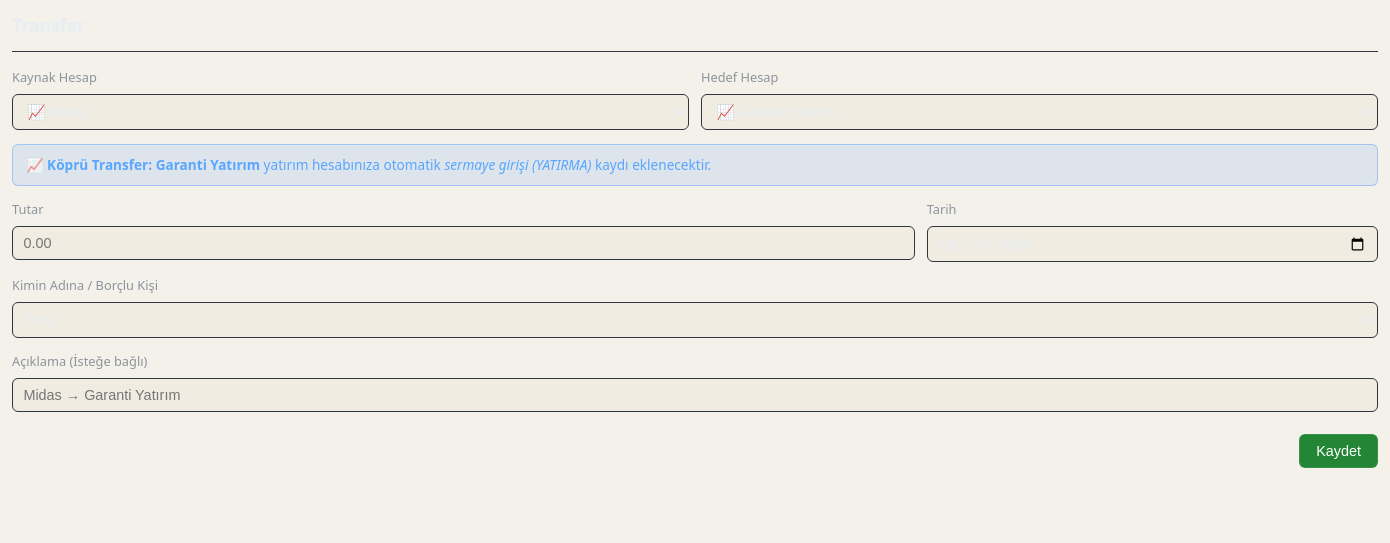
Test: TransferFormu › iki aracı kurum seçildiğinde uyarır ve kaydetmez
This screenshot has width=1390, height=543.
In the number field with id "t-tutar": (463, 243) [12,226,915,260], type "5000"
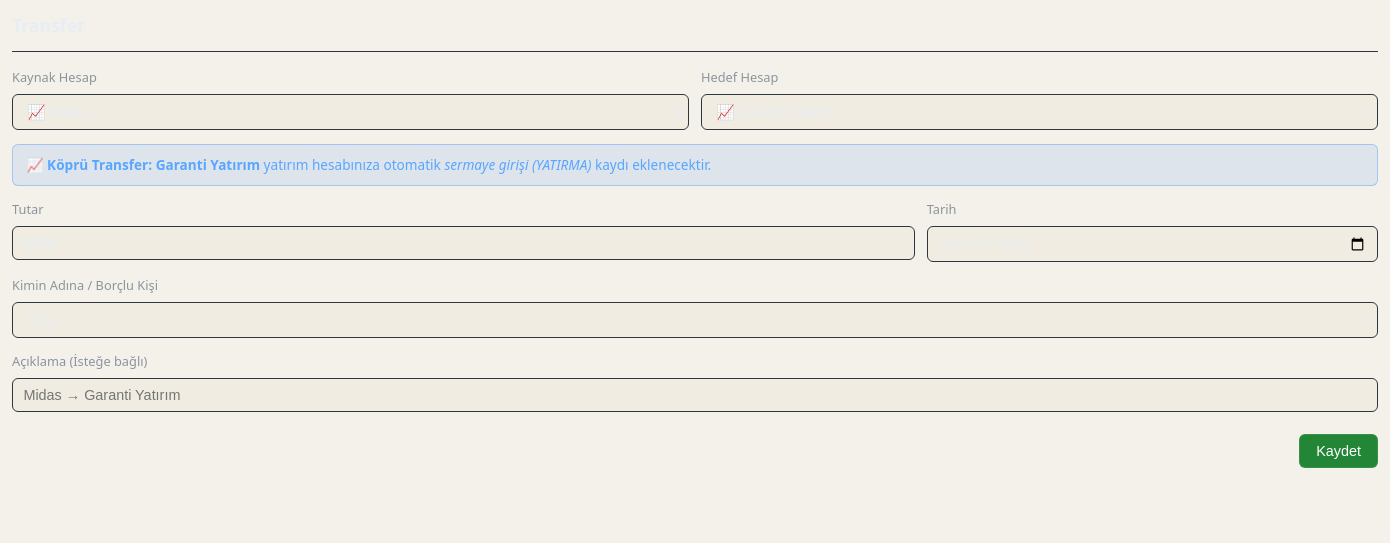
Click the button "Kaydet": (1339, 451) [1299,434,1378,468]
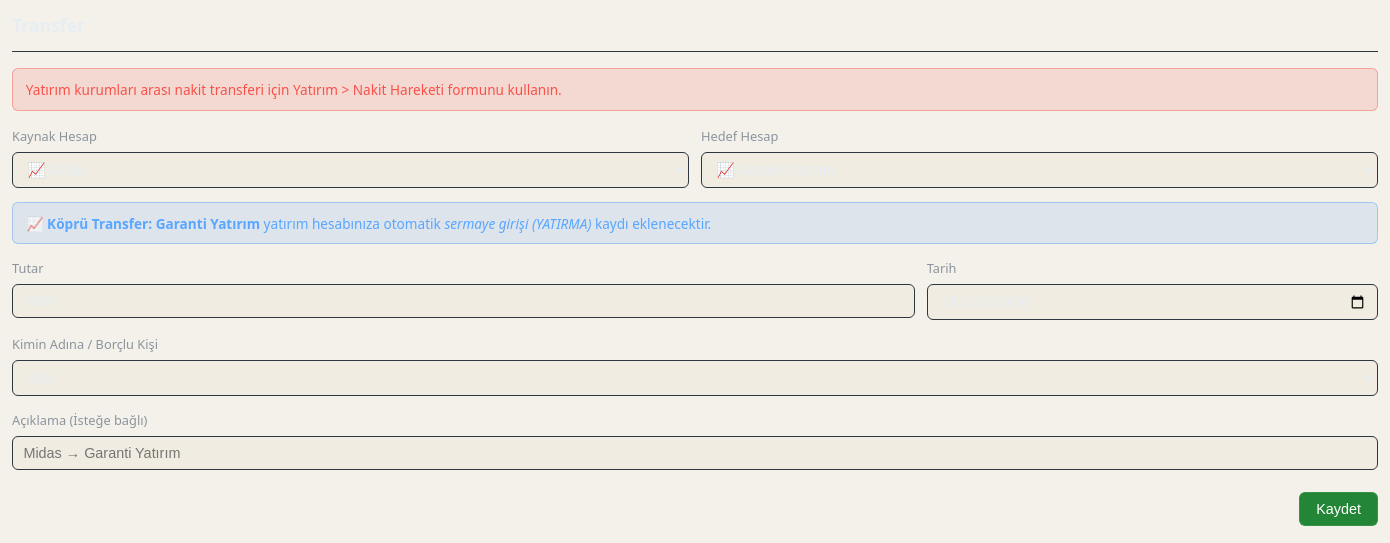
Now the text "kurumları arası" is shown, box [26,80,562,99]
